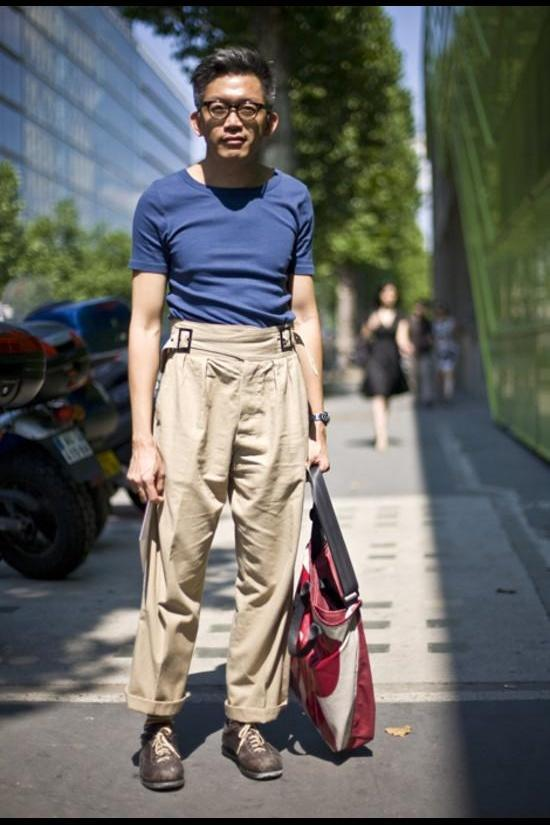Tshirt: (129, 166, 316, 329)
pants: (126, 320, 310, 726)
